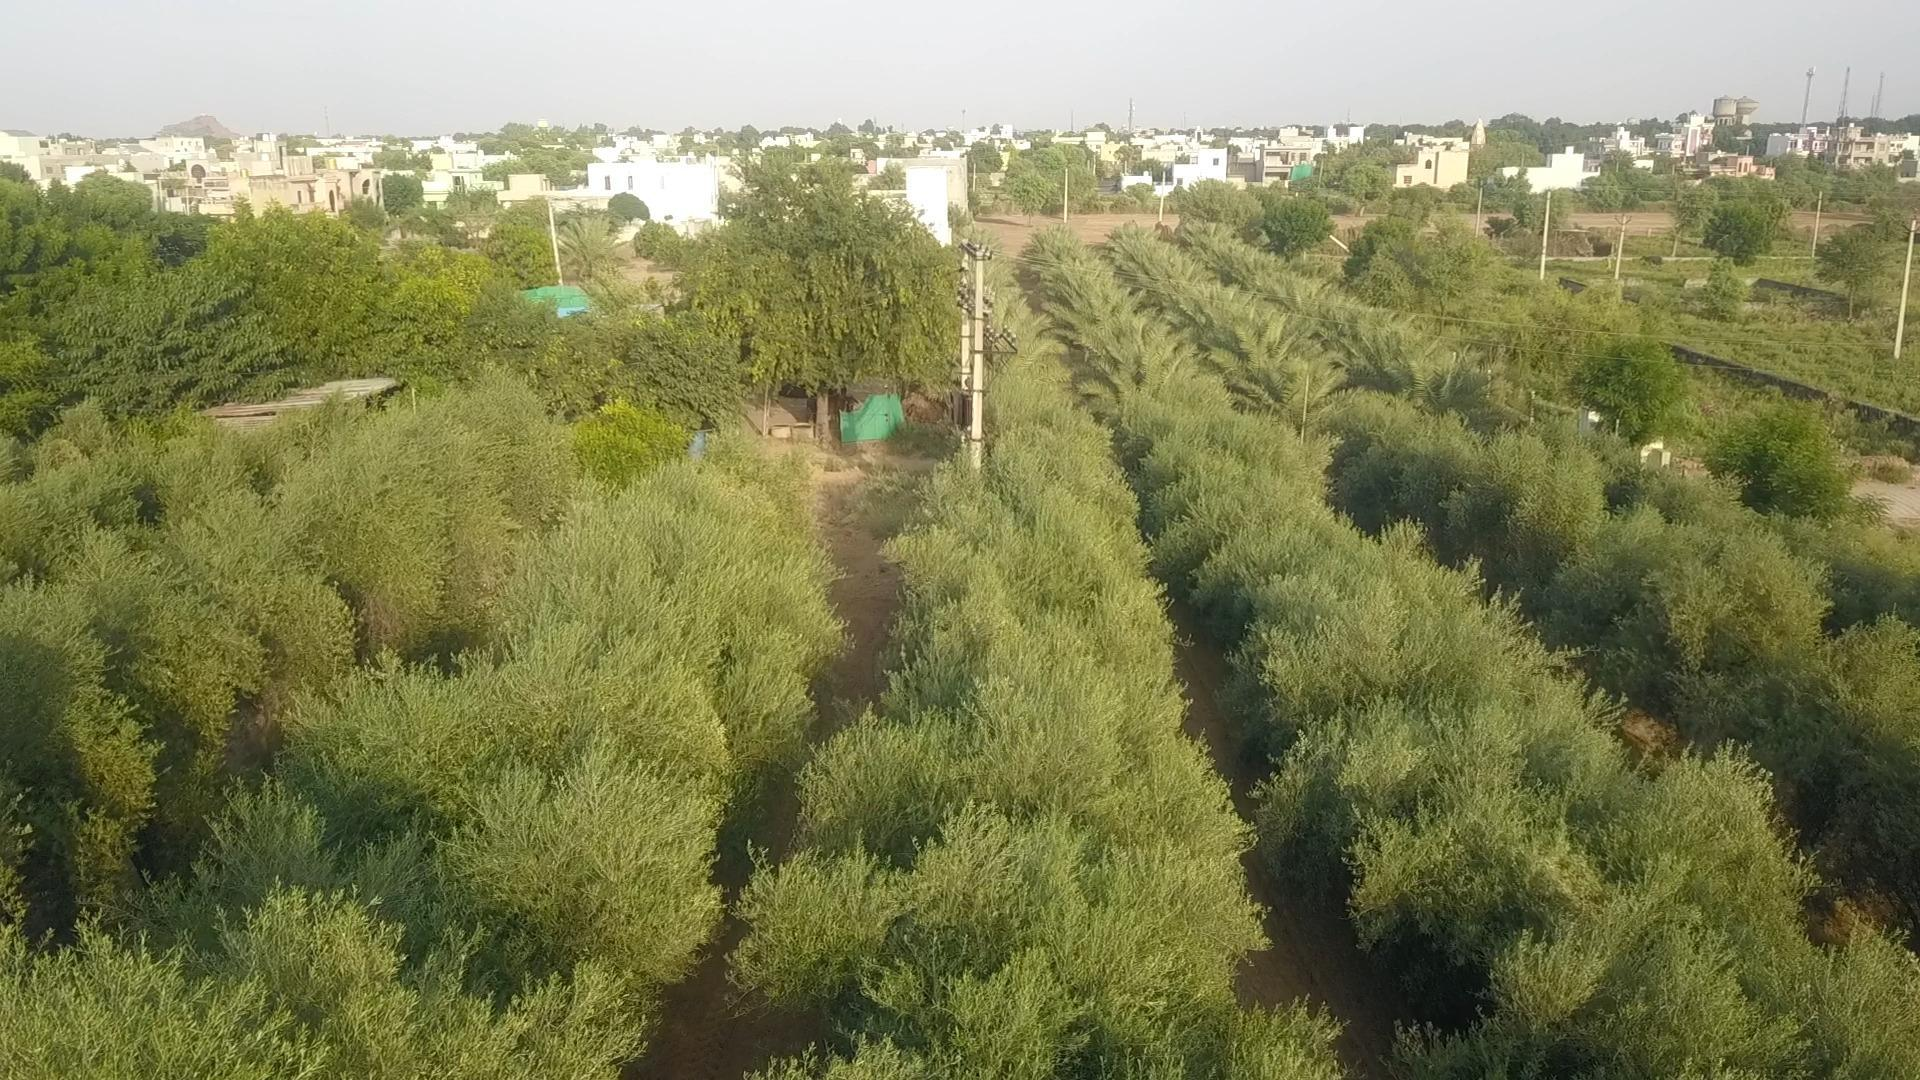canopy: (1091, 372, 1919, 1079), (199, 463, 840, 1079), (735, 360, 1265, 1079), (1317, 389, 1919, 918), (0, 378, 582, 909)
road: (625, 455, 934, 1079), (1168, 608, 1399, 1079)
